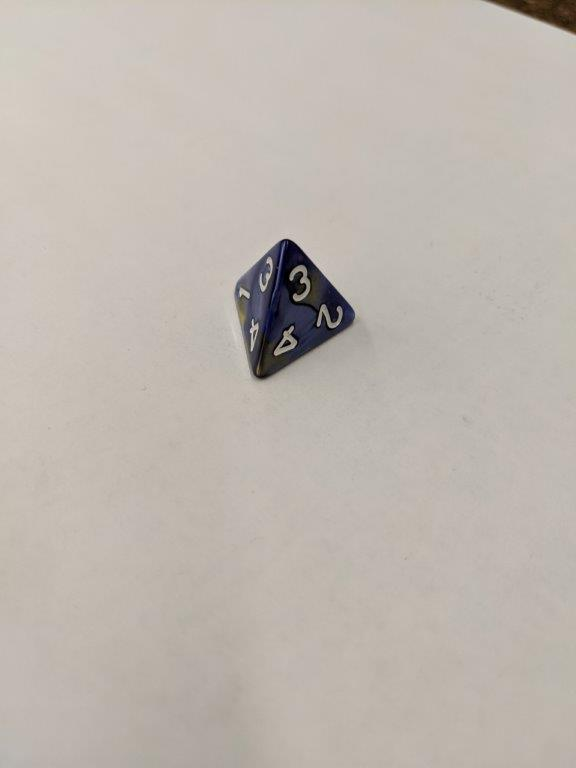d4-3: (230, 235, 360, 381)
